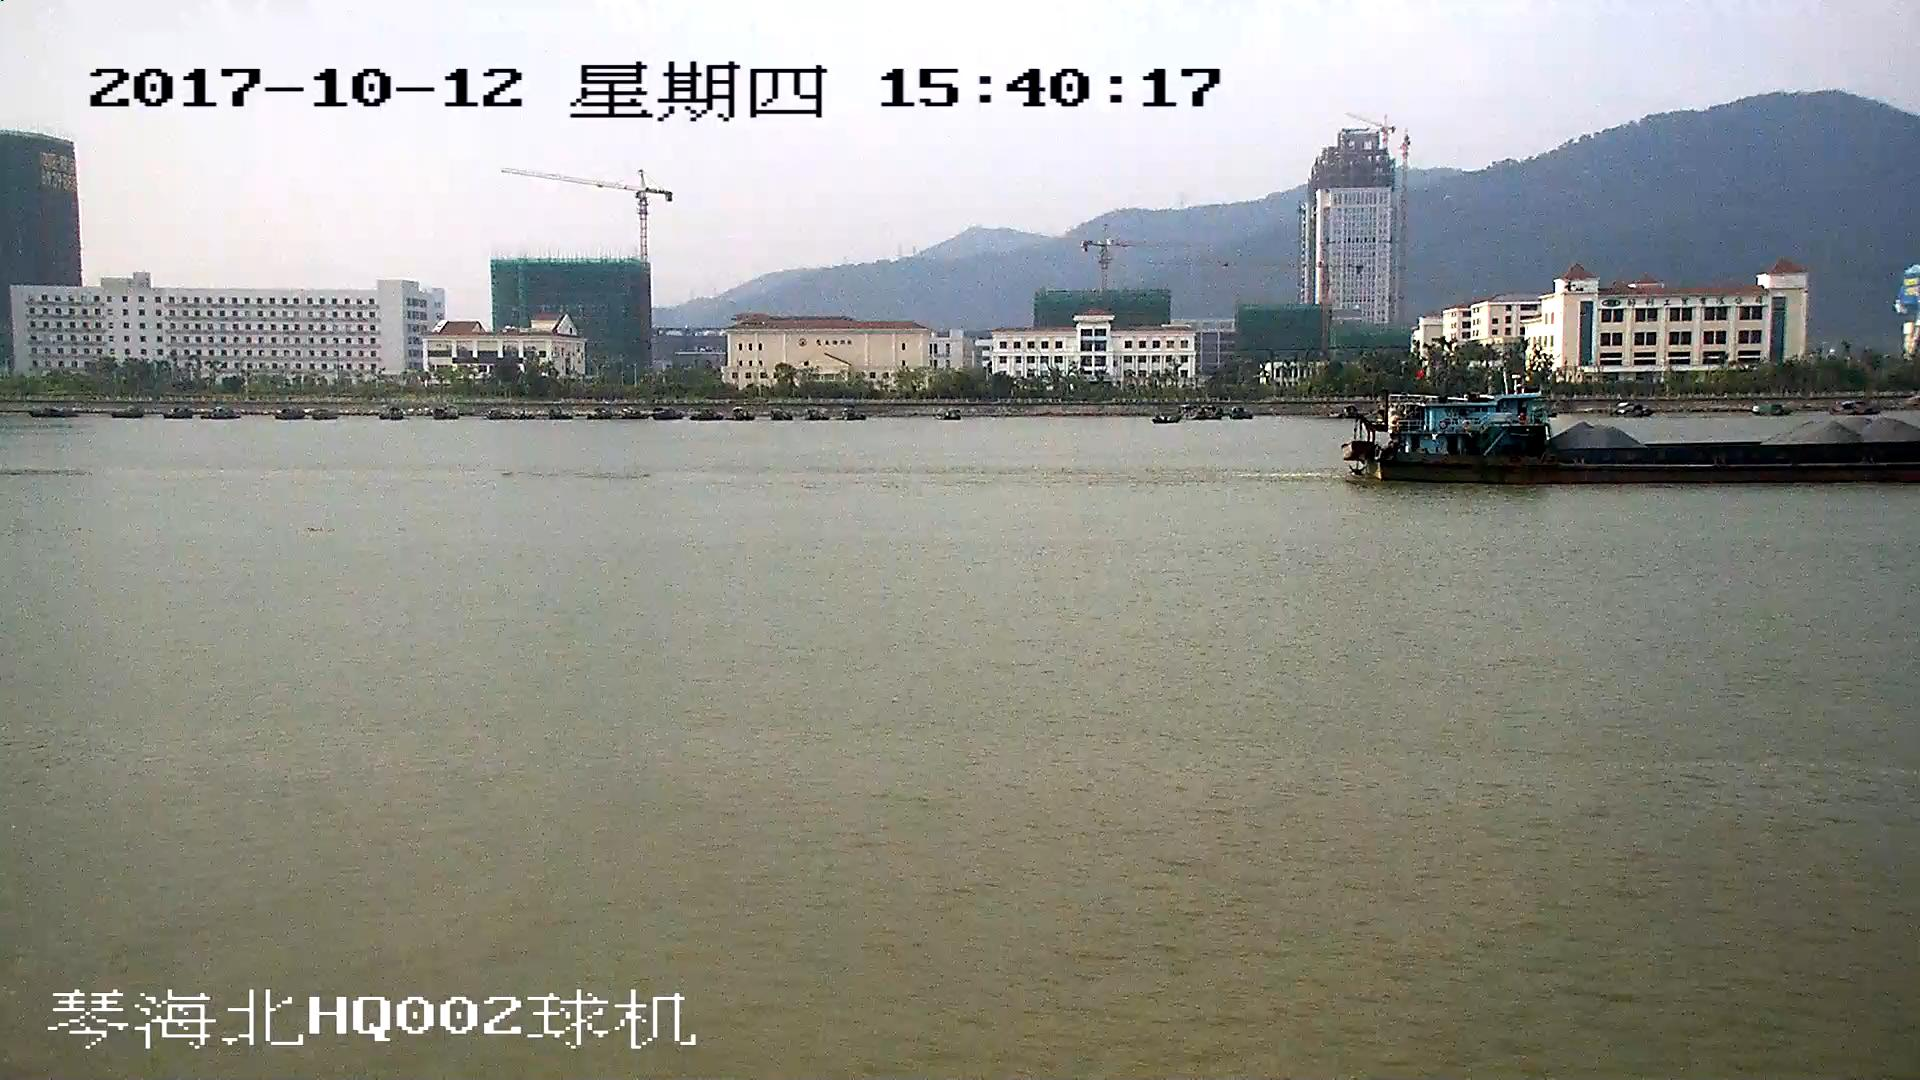ore carrier: (1346, 393, 1920, 485)
